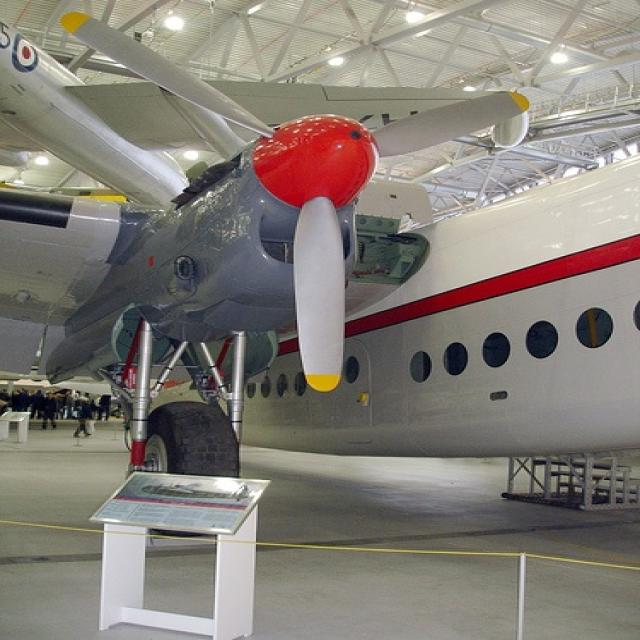aeroplane: (1, 12, 636, 538)
